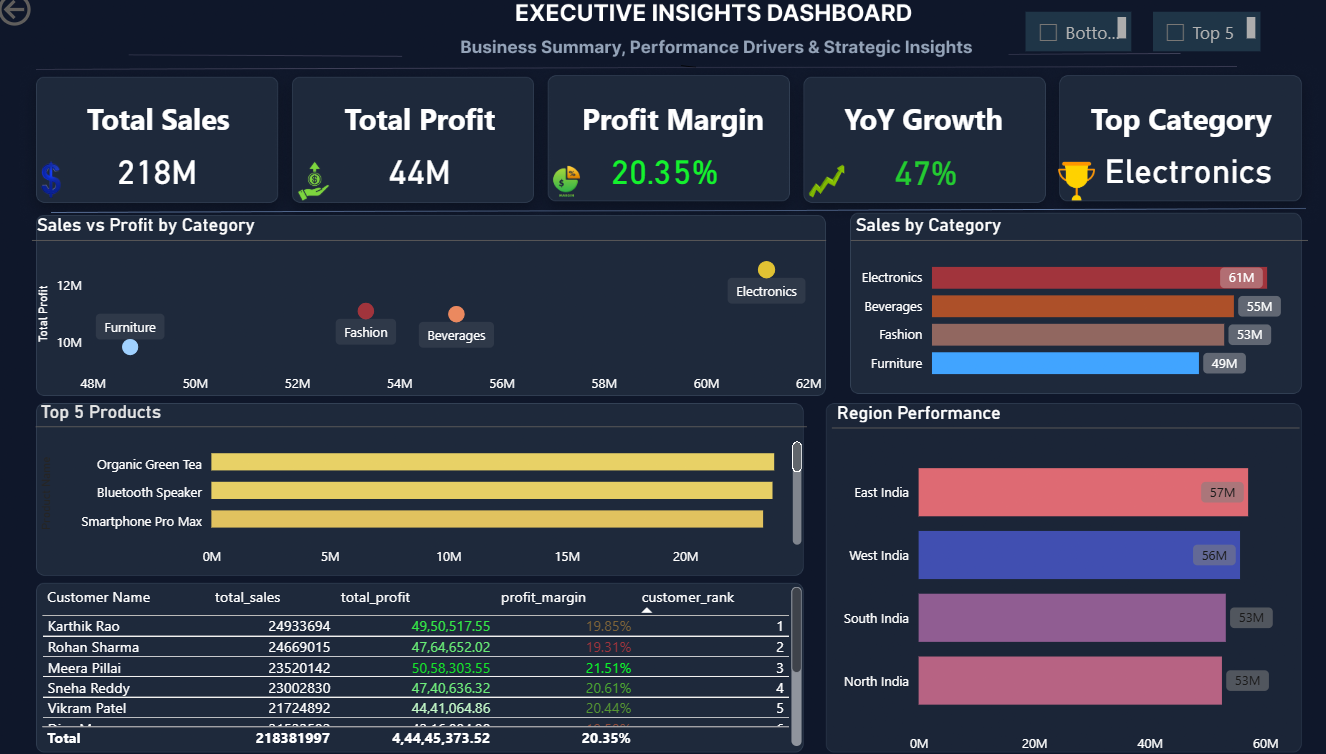

This screenshot's page, from the dashboard's own definition file:
{"tool":"powerbi","page":{"name":"final","canvas":[1280,720],"ordinal":4},"visuals":[{"type":"card","title":"Total Sales","fields":{"Values":["calculate.total_sales"]},"box":[72.1,138.4,161.6,61.6],"z":0},{"type":"textbox","box":[82.6,98.8,151.2,51.2],"z":1000},{"type":"image","box":[36,159.3,36,40.7],"z":2000},{"type":"card","title":"Total Sales","fields":{"Values":["calculate.total_profit"]},"box":[316.3,138.4,161.6,61.6],"z":3000},{"type":"textbox","box":[322.1,98.8,151.2,51.2],"z":4000},{"type":"image","box":[280.2,159.3,36,40.7],"z":5000},{"type":"card","title":"Total Sales","fields":{"Values":["calculate.profit_margin"]},"box":[544.2,138.4,161.6,61.6],"z":6000},{"type":"textbox","box":[543,98.8,191.9,51.2],"z":7000},{"type":"image","box":[511.6,159.3,44.2,40.7],"z":8000},{"type":"textbox","box":[787.2,98.8,189.5,51.2],"z":9000},{"type":"card","title":"Total Sales","fields":{"Values":["calculate.YoY_Growth_%"]},"box":[787.2,139.5,161.6,61.6],"z":10000},{"type":"image","box":[753.5,159.3,44.2,40.7],"z":11000},{"type":"card","fields":{"Values":["calculate.Top Category"]},"box":[1025.6,137.2,173.3,62.8],"z":12000},{"type":"textbox","box":[1016.3,98.8,189.5,51.2],"z":13000},{"type":"image","box":[986,159.3,44.2,40.7],"z":14000},{"type":"scatterChart","title":"Sales vs Profit by Category","fields":{"X":["calculate.total_sales"],"Y":["calculate.total_profit"],"Size":["Sum(Sales_Fact.Quantity)"],"Series":["Category_Dim.Category"]},"box":[36,210.5,739.5,174.4],"z":15000},{"type":"clusteredBarChart","title":"Sales by Category","fields":{"Category":["Category_Dim.Category"],"Y":["calculate.total_sales"]},"box":[797.7,210.5,425.6,164],"z":16000},{"type":"clusteredBarChart","title":"Top 5 Products","fields":{"Category":["Product_Dim.Product Name"],"Y":["calculate.total_sales"]},"box":[39.8,384.2,717.7,161.9],"z":17000},{"type":"actionButton","box":[0,0,100,40],"z":18000},{"type":"clusteredBarChart","title":"Region Performance","fields":{"Category":["Sales_Fact.Region"],"Y":["calculate.total_sales"]},"box":[780.2,384.9,434.9,334.9],"z":19000},{"type":"tableEx","fields":{"Values":["Customer_Dim.Customer Name","calculate.total_sales","calculate.total_profit","calculate.profit_margin","calculate.customer_rank"]},"box":[39.5,552.3,717.4,158.1],"z":20000},{"type":"slicer","fields":{"Values":["TopBottom.Type"]},"box":[960.6,22,98.8,37],"z":21000},{"type":"slicer","fields":{"Values":["TopBottom.Type"]},"box":[1078.6,22,100.2,37],"z":22000}]}

Visuals, with their boxes in screenshot pixels (x1, y1, x2, y2), scaled from the page's 1280x720 canvas onto the 1326x754 screenshot:
"Total Sales" card: bbox=[75, 145, 242, 209]
textbox: bbox=[86, 103, 242, 157]
image: bbox=[37, 167, 75, 209]
"Total Sales" card: bbox=[328, 145, 495, 209]
textbox: bbox=[334, 103, 490, 157]
image: bbox=[290, 167, 328, 209]
"Total Sales" card: bbox=[564, 145, 731, 209]
textbox: bbox=[563, 103, 761, 157]
image: bbox=[530, 167, 576, 209]
textbox: bbox=[815, 103, 1012, 157]
"Total Sales" card: bbox=[815, 146, 983, 211]
image: bbox=[781, 167, 826, 209]
card - calculate.Top Category: bbox=[1062, 144, 1242, 209]
textbox: bbox=[1053, 103, 1249, 157]
image: bbox=[1021, 167, 1067, 209]
"Sales vs Profit by Category" scatterChart: bbox=[37, 220, 803, 403]
"Sales by Category" clusteredBarChart: bbox=[826, 220, 1267, 392]
"Top 5 Products" clusteredBarChart: bbox=[41, 402, 785, 572]
actionButton: bbox=[0, 0, 104, 42]
"Region Performance" clusteredBarChart: bbox=[808, 403, 1259, 753]
tableEx - Customer_Dim.Customer Name x calculate.total_sales: bbox=[41, 578, 784, 744]
slicer - TopBottom.Type: bbox=[995, 23, 1097, 62]
slicer - TopBottom.Type: bbox=[1117, 23, 1221, 62]
